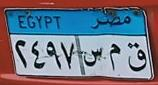2: (13, 39, 29, 72)
4: (30, 40, 46, 71)
7: (61, 40, 76, 71)
9: (46, 39, 61, 72)
meem: (106, 41, 122, 72)
qaaf: (124, 40, 147, 73)
seen: (83, 45, 103, 70)
